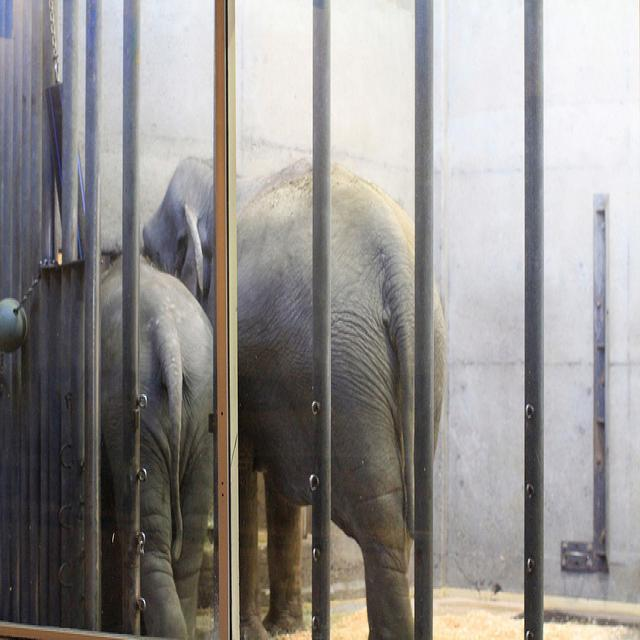Elephant: (141, 153, 447, 638), (98, 252, 214, 638)
